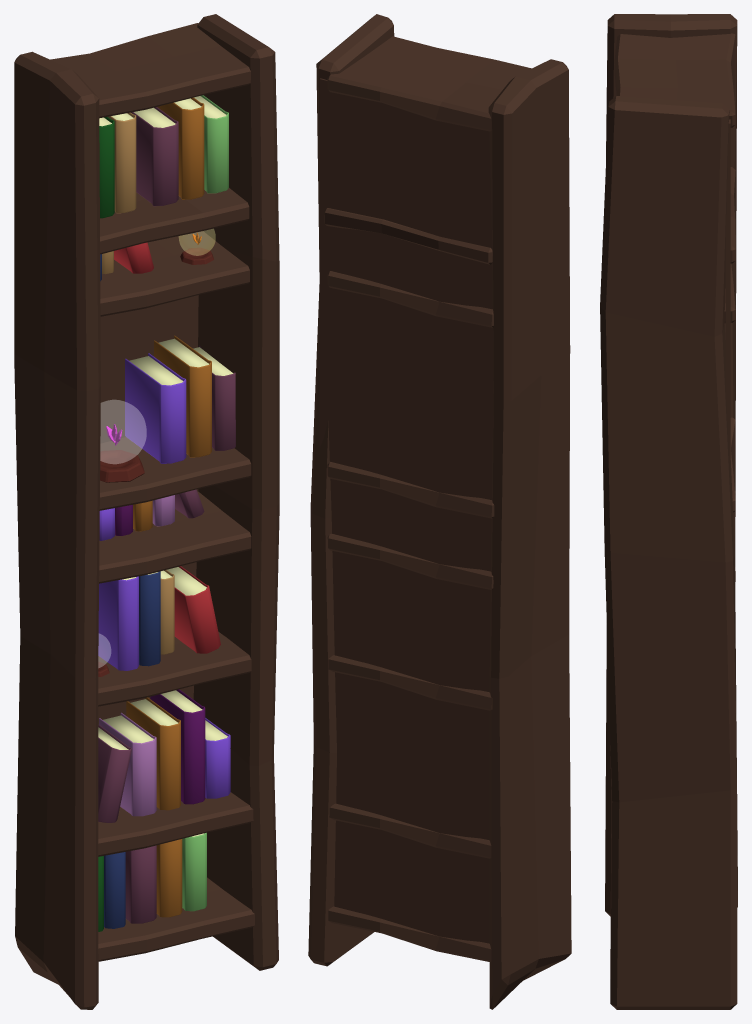
Rendered from bookshelf4.fbx.
The picture shows the model from 3 angles, left to right: view 1: azimuth 30°, elevation 25°; view 2: azimuth 150°, elevation 25°; view 3: azimuth 270°, elevation 25°; orthographic projection.
Parts seen in each view (by area): view 1: Plane.005; view 2: Plane.005; view 3: Plane.005.
Part boxes in pixels (x1,y1,x2,y2): Plane.005: [14, 14, 279, 1009]; Plane.005: [308, 14, 571, 1009]; Plane.005: [600, 14, 737, 1009].
Bounding box in the file's own units: 140 × 596 × 81.96.
